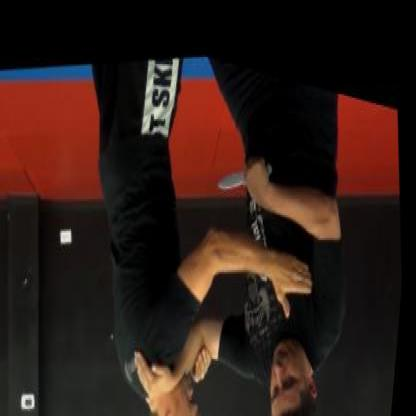knife: (214, 127, 276, 191)
